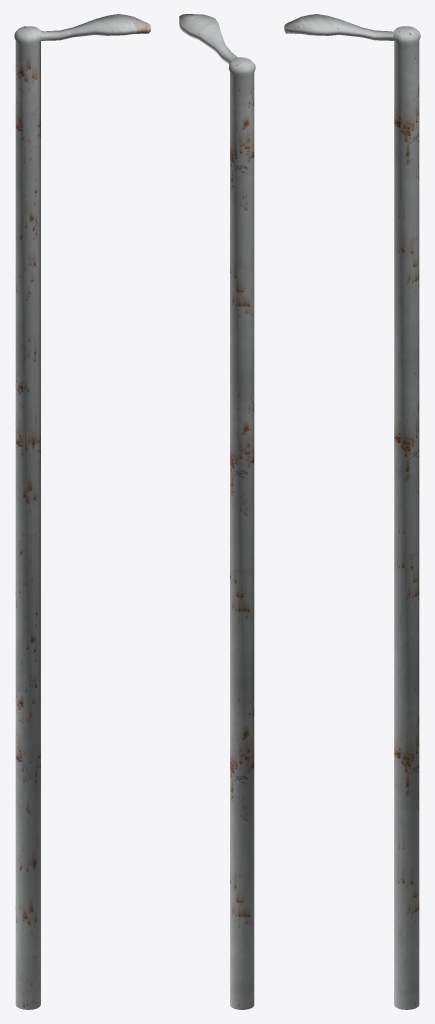
The model's file is PoteauElec.glb.
3 views of the same model, side by side, from view 1: azimuth 90°, elevation 25°; view 2: azimuth 210°, elevation 25°; view 3: azimuth 270°, elevation 25° (orthographic). The views are drawn at different scales.
Visible parts, largest first — view 1: Poteau_Elec; view 2: Poteau_Elec; view 3: Poteau_Elec.
Part boxes in pixels (x1,y1,x2,y2): Poteau_Elec: (14, 14, 150, 1009); Poteau_Elec: (179, 14, 255, 1009); Poteau_Elec: (284, 14, 420, 1009).
Bounding box in the file's own units: 0.1587 × 4.44 × 0.5589.
2 materials, 1 textured.
